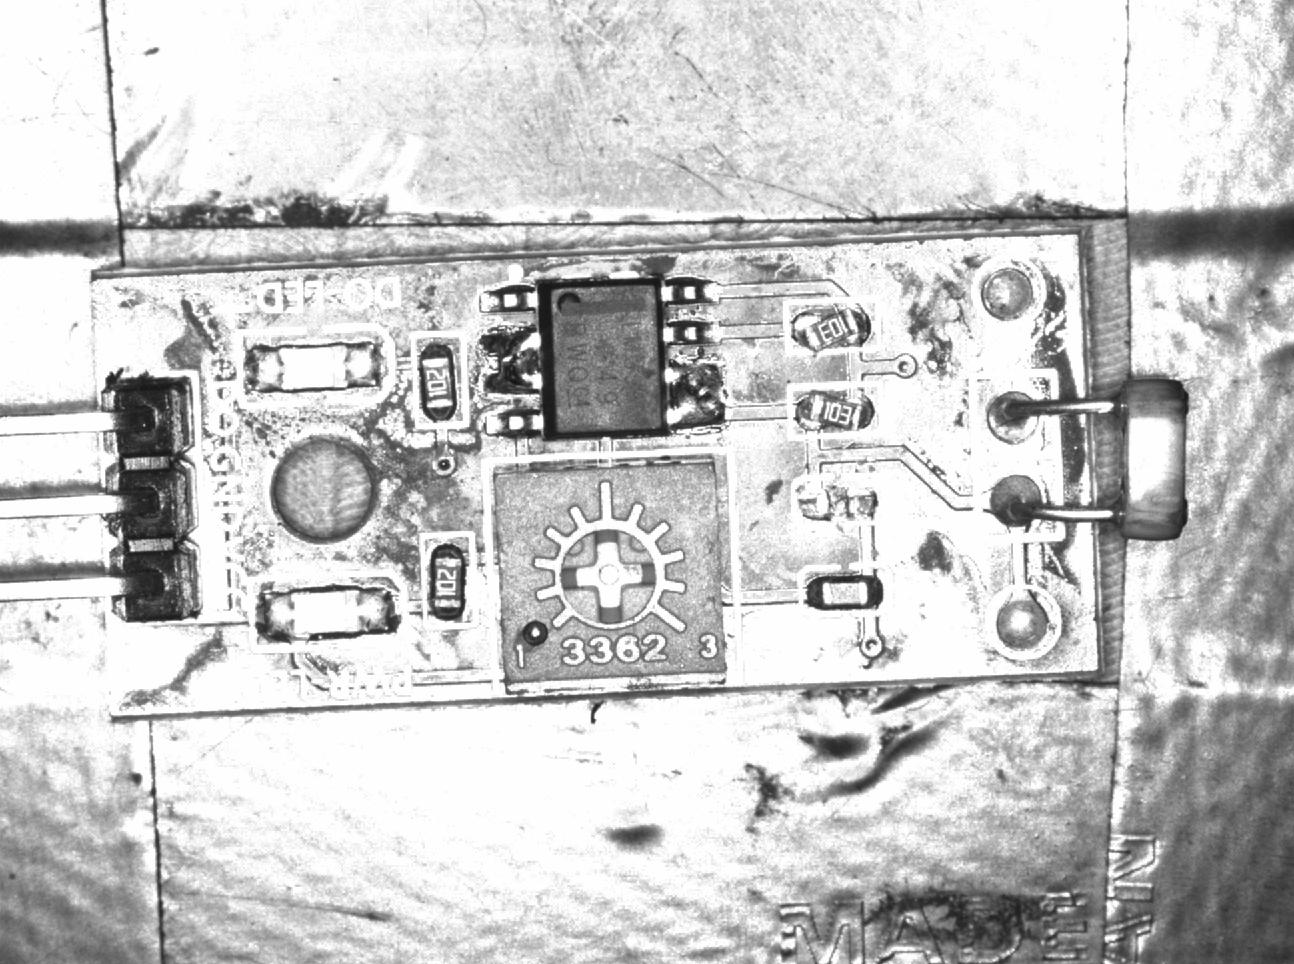bridge: (666, 358, 729, 432), (480, 322, 540, 396)
lifted: (788, 384, 884, 436), (785, 301, 880, 350)
miss: (795, 474, 886, 524)
ok: (418, 535, 475, 632), (414, 331, 465, 428), (801, 569, 894, 616)
